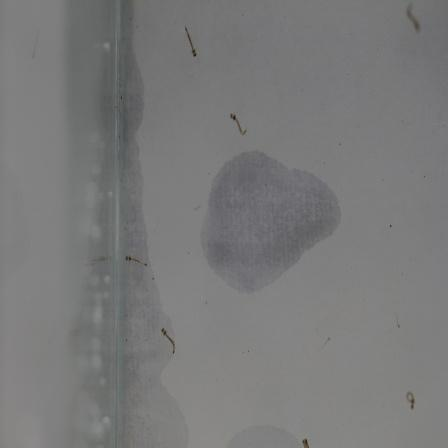Jentik-Nyamuk: (156, 322, 181, 360), (123, 248, 154, 277), (179, 21, 199, 65), (227, 104, 252, 139)
